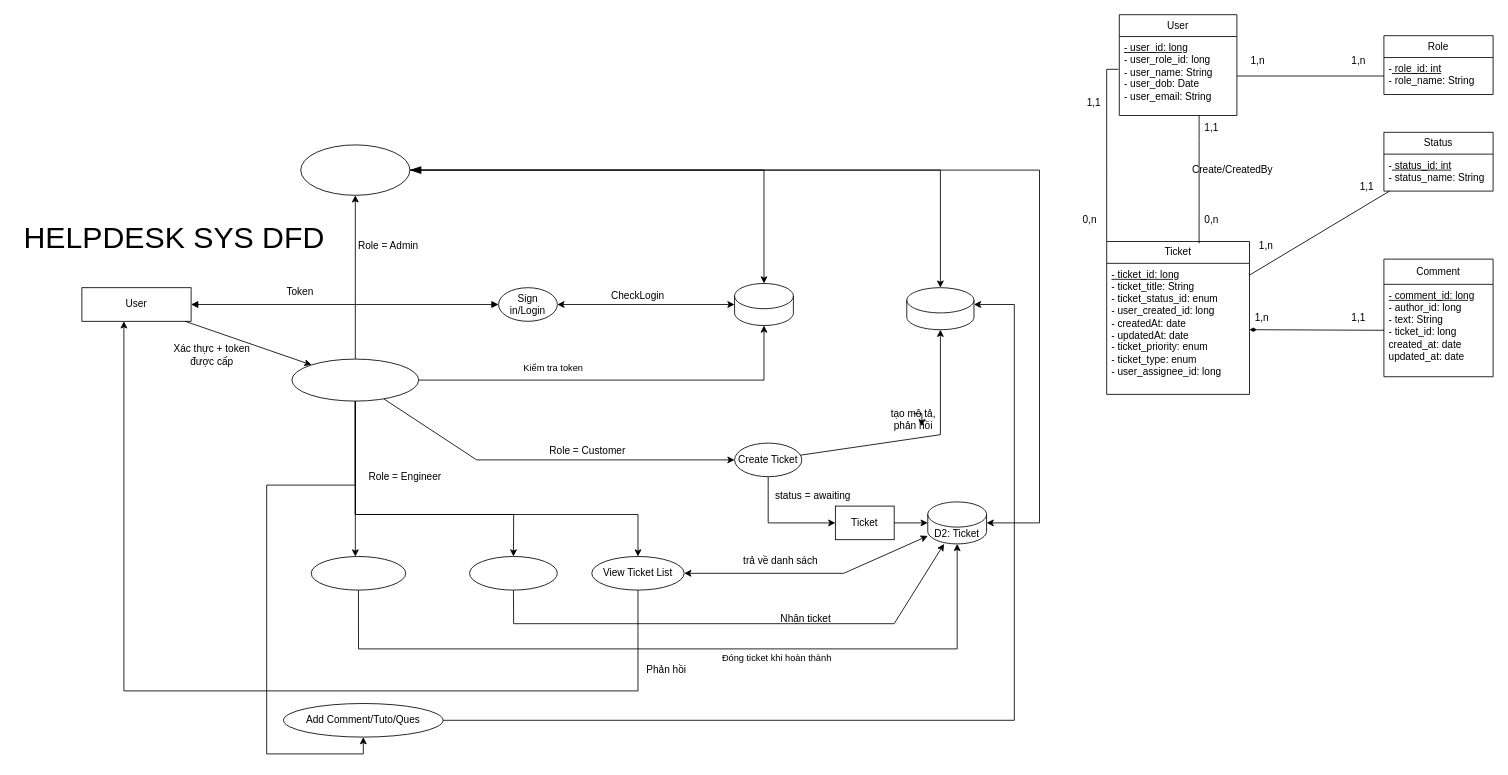
This 1508x775 diagram has some shape labels left out. Each missing label, with the box of its shape:
Assign Ticket: (469, 556, 557, 590)
Closed Ticket: (310, 556, 406, 590)
D1: Users: (734, 283, 793, 326)
D3: Comment: (906, 287, 974, 330)
Manage: (300, 144, 410, 195)
Xác thực user: (291, 358, 419, 401)
